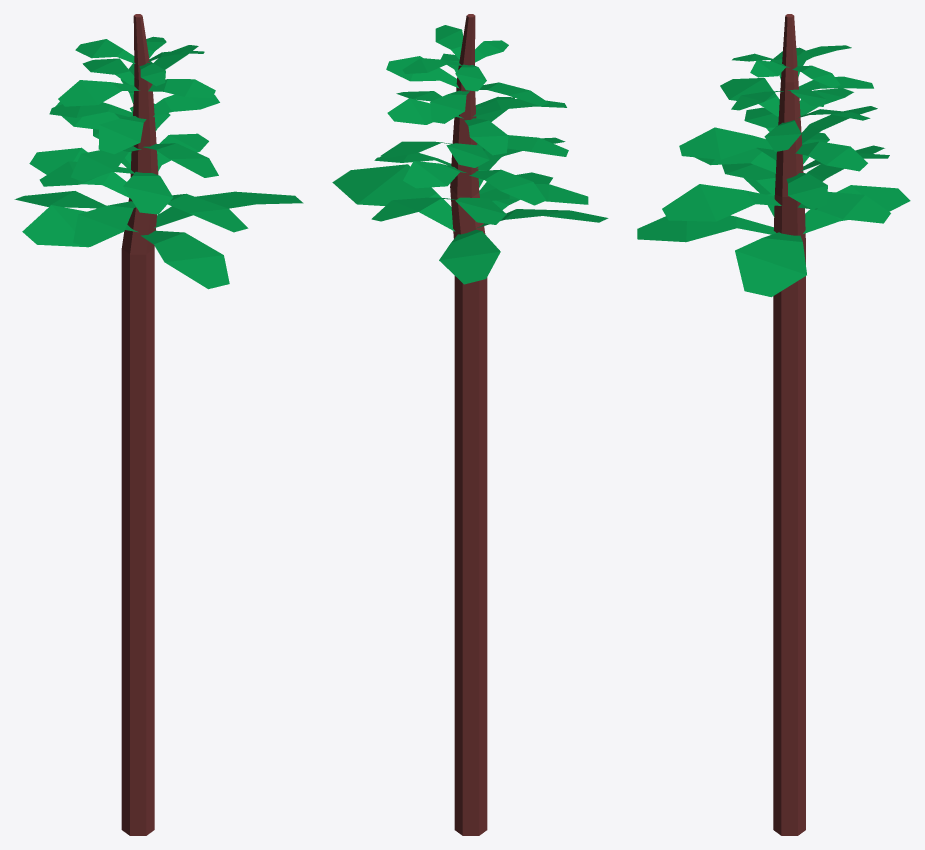
Rendered from tree.glb.
The picture shows the model from 3 angles, left to right: view 1: azimuth 30°, elevation 25°; view 2: azimuth 150°, elevation 25°; view 3: azimuth 270°, elevation 25°; orthographic projection.
Parts seen in each view (by area): view 1: Cylinder; view 2: Cylinder; view 3: Cylinder.
Boxes of the visible parts, left/top/right/bottom form: Cylinder: left=14, top=14, right=303, bottom=835; Cylinder: left=332, top=14, right=608, bottom=835; Cylinder: left=637, top=14, right=910, bottom=835.
Size of the model in its own units: 4.17 by 12.01 by 3.66.
Materials: 1 (1 with a texture image).
